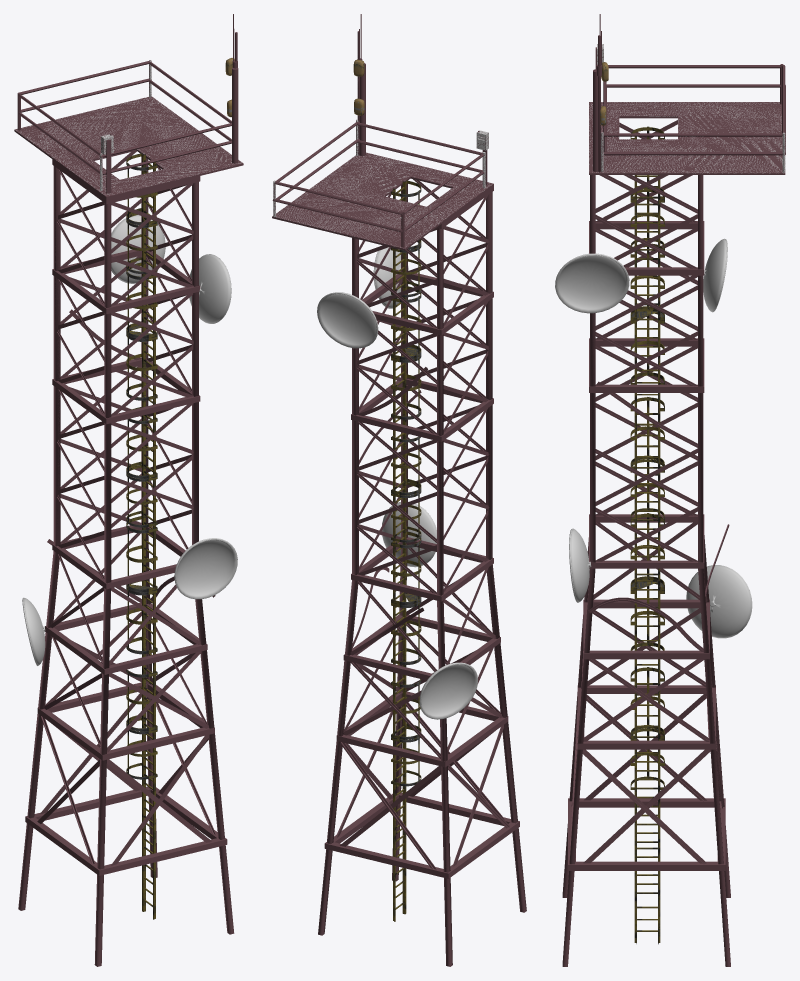
Rendered from Radio Tower.fbx.
The picture shows the model from 3 angles, left to right: view 1: azimuth 30°, elevation 25°; view 2: azimuth 150°, elevation 25°; view 3: azimuth 270°, elevation 25°; orthographic projection. The views are drawn at different scales.
Parts seen in each view (by area): view 1: Group1; view 2: Group1; view 3: Group1.
Boxes of the visible parts, x1,y1,x2,y2 form: Group1: (14,14,243,966); Group1: (272,14,526,966); Group1: (555,14,785,966).
Size of the model in its own units: 319 by 1640 by 357.
